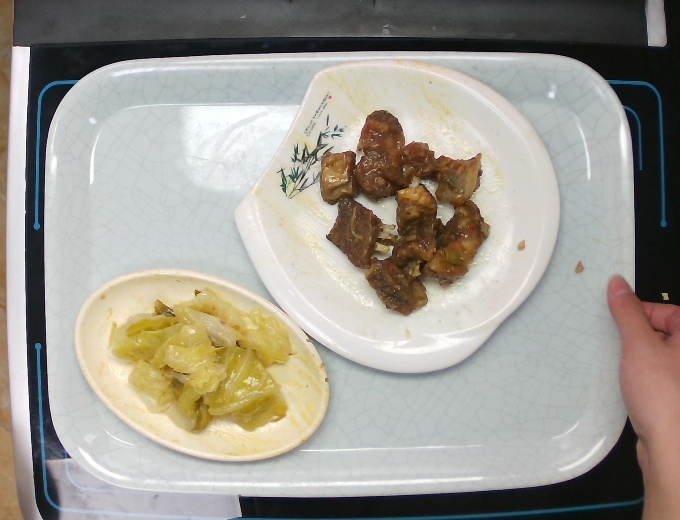JYsf-Mian_Pan: (234, 58, 561, 378)
JYsf-Tuo_Yuan_Wan: (66, 266, 337, 465)
